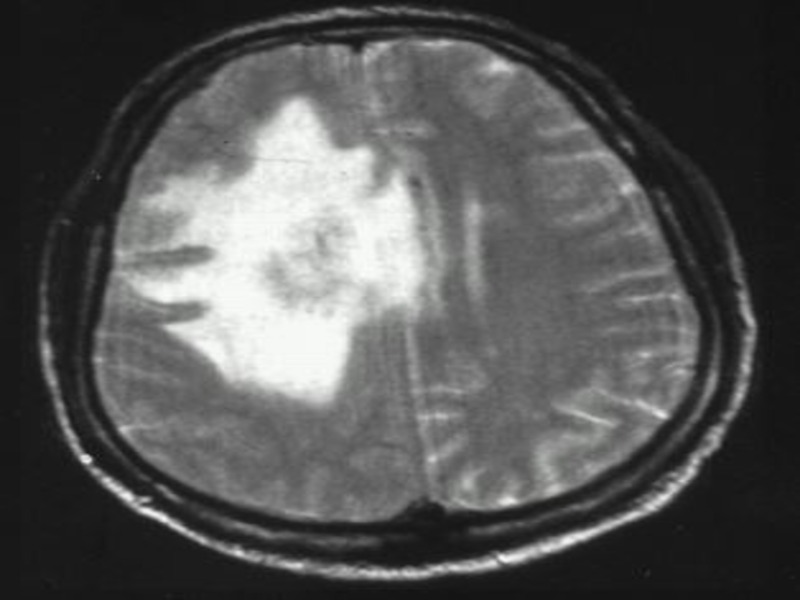tumor: (147, 98, 422, 409)
